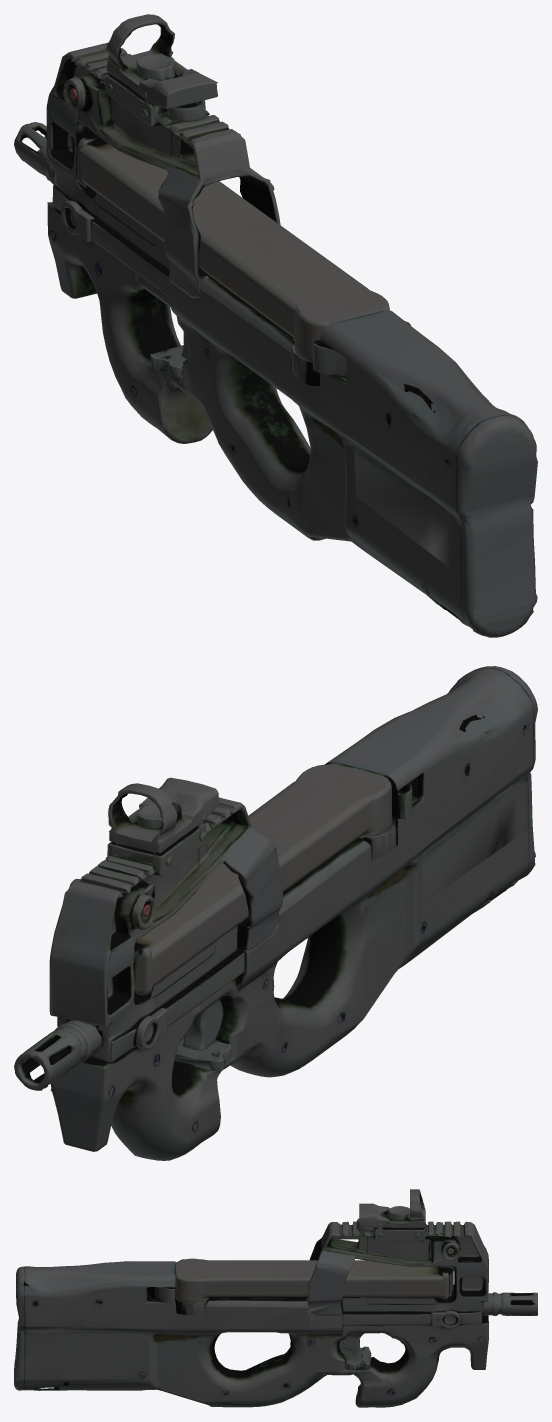
3 renders of one model, top to bottom at view 1: azimuth 30°, elevation 25°; view 2: azimuth 150°, elevation 25°; view 3: azimuth 270°, elevation 25°, orthographic. The views are drawn at different scales.
Visible parts, largest first — view 1: govde; view 2: govde; view 3: govde.
Boxes of the visible parts, box(x1,y1,x2,y2) form: govde: box(14, 14, 537, 637); govde: box(14, 666, 537, 1160); govde: box(14, 1189, 537, 1407).
Size of the model in its own units: 0.0583 by 0.2248 by 0.5.
1 material, 1 textured.
